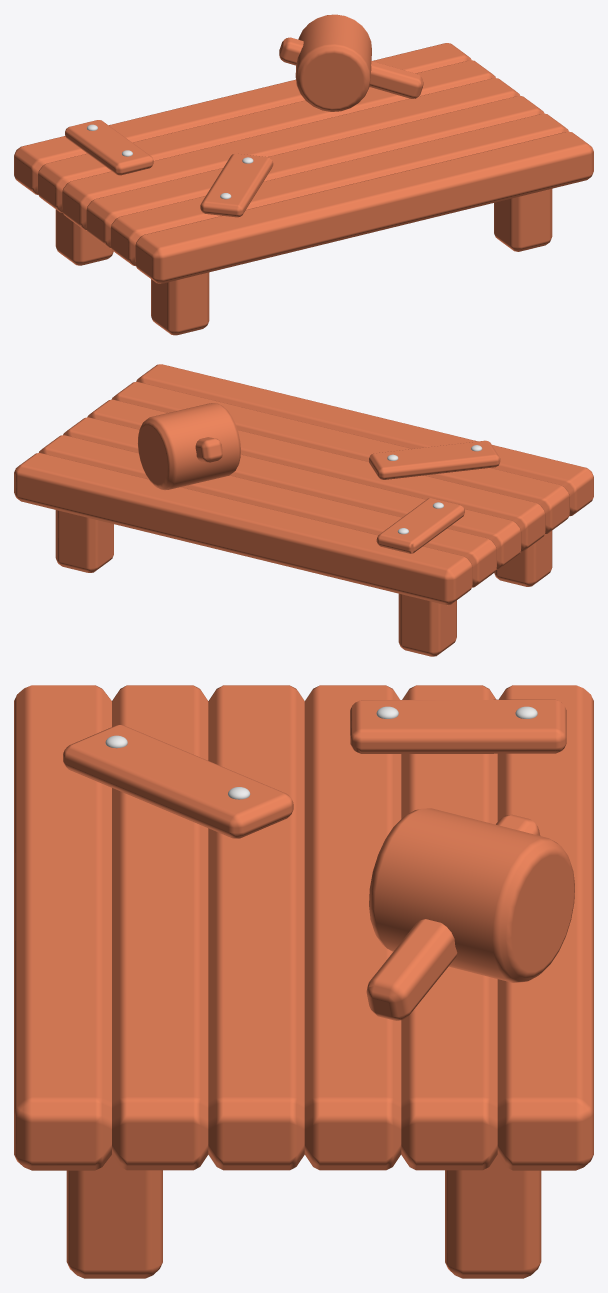
The model's file is Workbench_HI.fbx.
3 views of the same model, one above another, from view 1: azimuth 30°, elevation 25°; view 2: azimuth 150°, elevation 25°; view 3: azimuth 270°, elevation 25° (orthographic). The views are drawn at different scales.
Parts seen in each view (by area): view 1: Bench_HI, Hammer_HI, Boards_HI; view 2: Bench_HI, Hammer_HI, Boards_HI; view 3: Bench_HI, Hammer_HI, Boards_HI.
Part boxes in pixels (x1=…): Bench_HI: x1=14, y1=43, x2=593, y2=335; Hammer_HI: x1=279, y1=14, x2=423, y2=111; Boards_HI: x1=65, y1=120, x2=273, y2=217; Bench_HI: x1=14, y1=364, x2=593, y2=656; Hammer_HI: x1=137, y1=403, x2=240, y2=490; Boards_HI: x1=369, y1=440, x2=500, y2=553; Bench_HI: x1=14, y1=685, x2=593, y2=1278; Hammer_HI: x1=366, y1=808, x2=574, y2=1020; Boards_HI: x1=63, y1=699, x2=566, y2=838.
Bounding box in the file's own units: 300 × 112 × 172.
